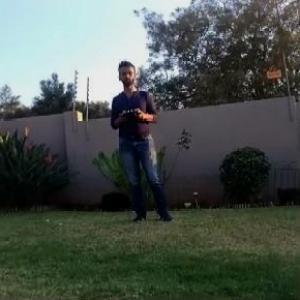follow: (110, 57, 180, 229)
